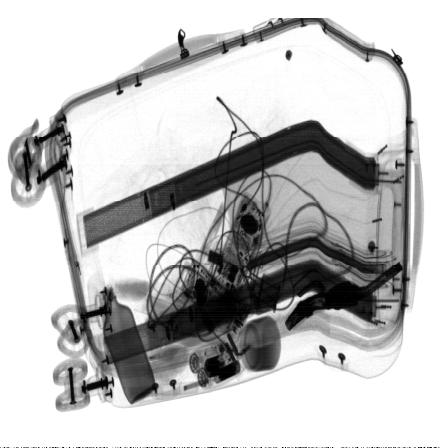Gun: (286, 258, 403, 330)
